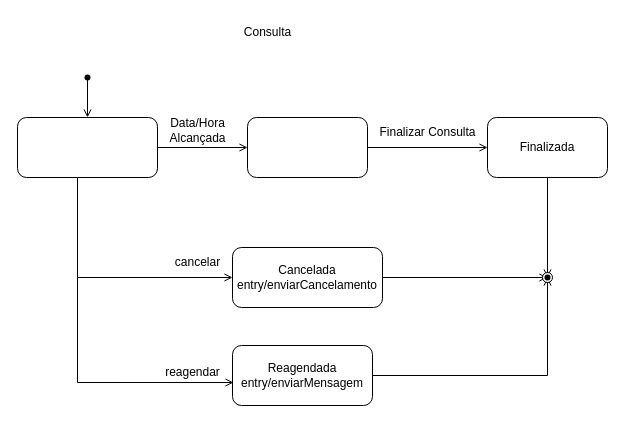
Image size: 625x423. Some labels were removed from this diagram. Here are the shapes that lost their labels. From the top down, the centre of each, then its label:
At (87,147): "Agendada entry/enviarConfirmacao 1 dia antes data enviarLembrete".
At (307,147): "Em andamento".
